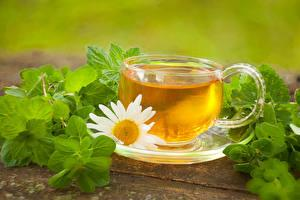chamomile: (93, 109, 154, 148)
